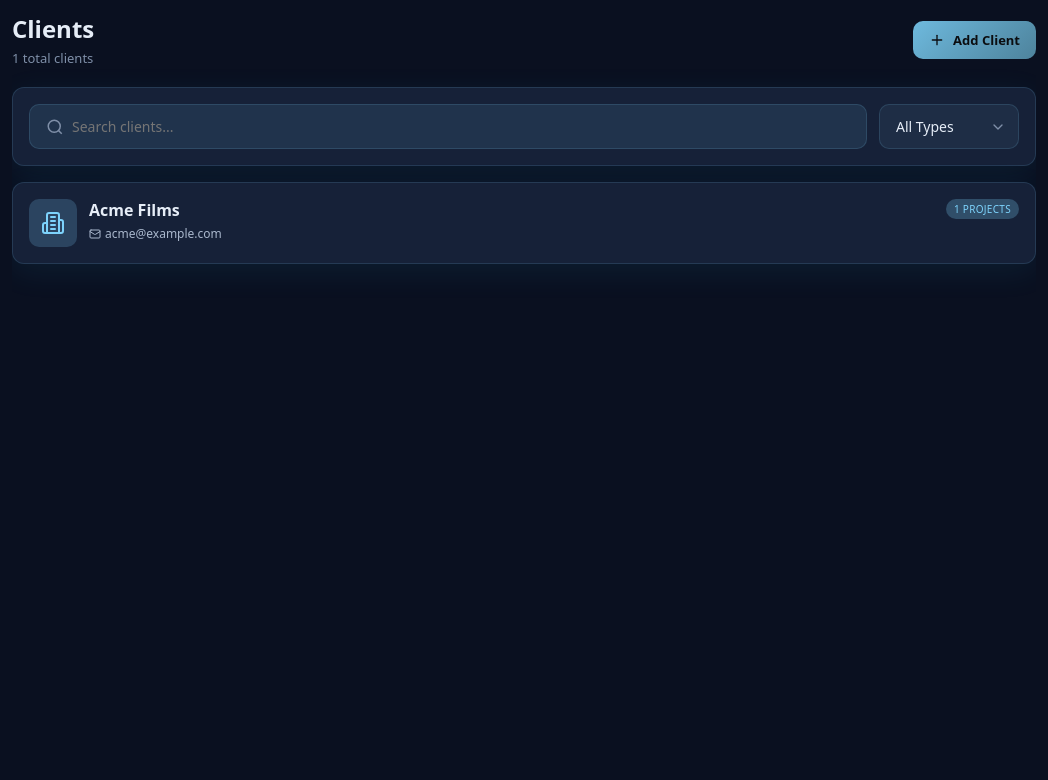
project history grouping › shows a multi-item reservation as one project
Expected: the text "1 projects" is shown, [946, 199, 1019, 219]
Click the text "Acme Films".
click(134, 210)  # box [89, 199, 180, 221]
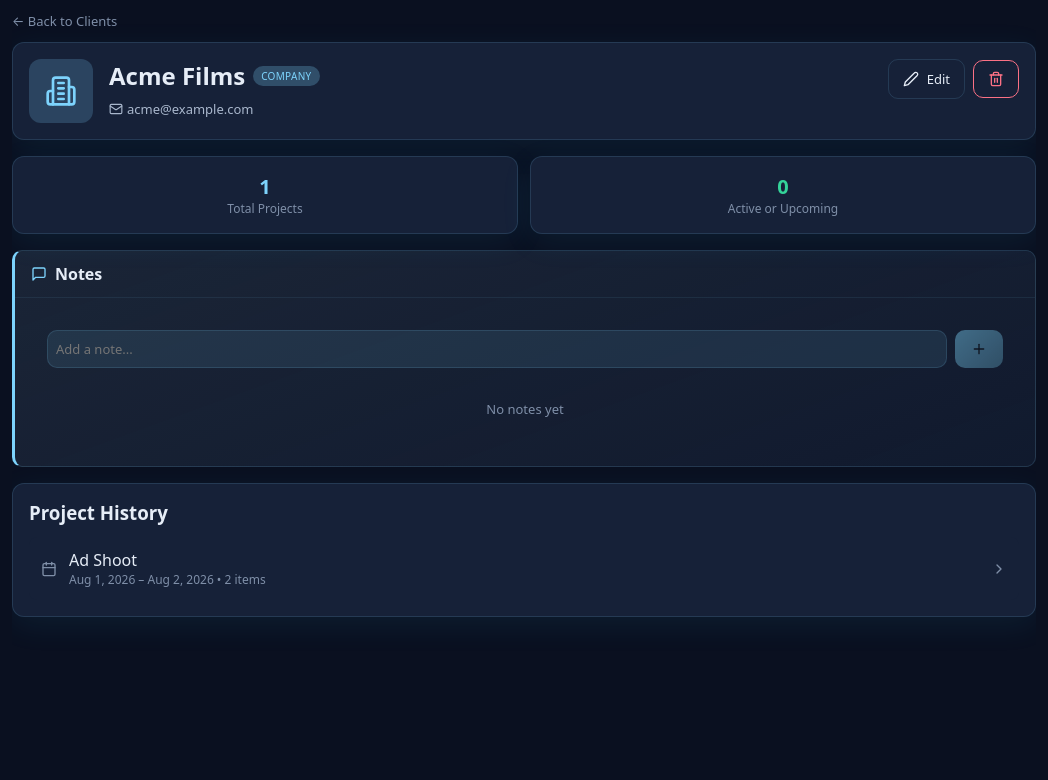
Expected: the text "Ad Shoot" is shown, [69, 549, 137, 571]
Expected: the text "Aug 1, 2026 – Aug 2, 2026 • 2 items" is shown, [69, 571, 266, 588]
